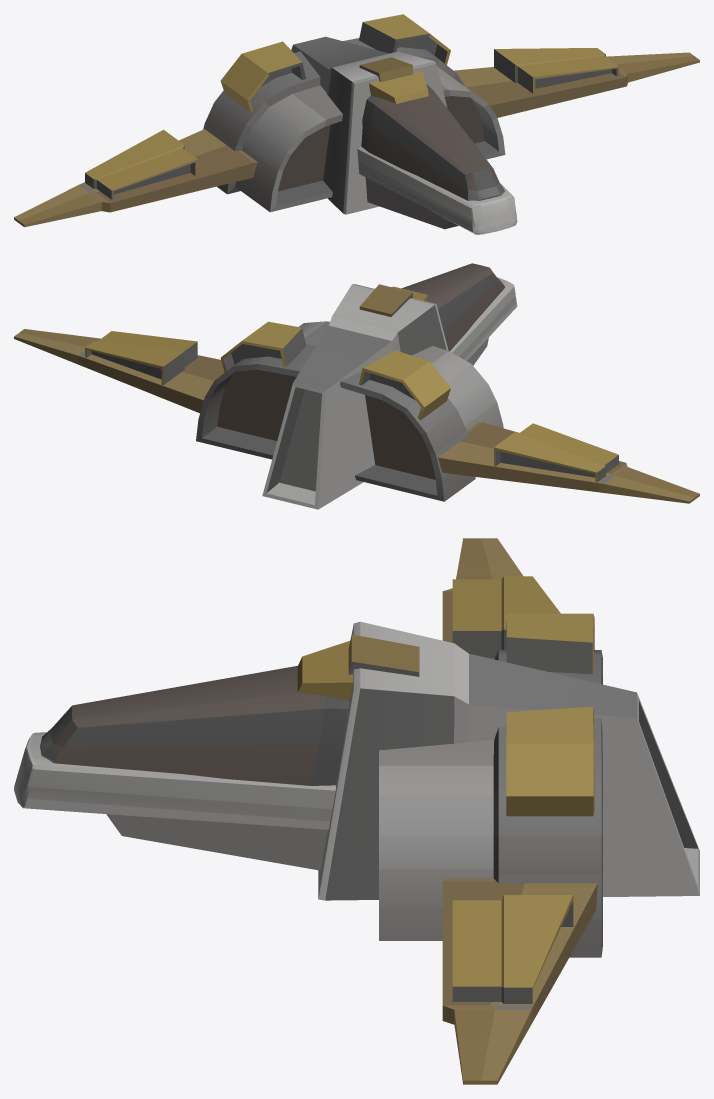
Rendered from bob.glb.
3 views of the same model, one above another, from view 1: azimuth 30°, elevation 25°; view 2: azimuth 150°, elevation 25°; view 3: azimuth 270°, elevation 25° (orthographic). The views are drawn at different scales.
Parts seen in each view (by area): view 1: Bob; view 2: Bob; view 3: Bob.
Part boxes in pixels (<box>): Bob: <box>14,14,699,234</box>; Bob: <box>14,263,699,509</box>; Bob: <box>14,538,699,1084</box>.
Bounding box in the file's own units: 10.5 × 2.04 × 5.61.
